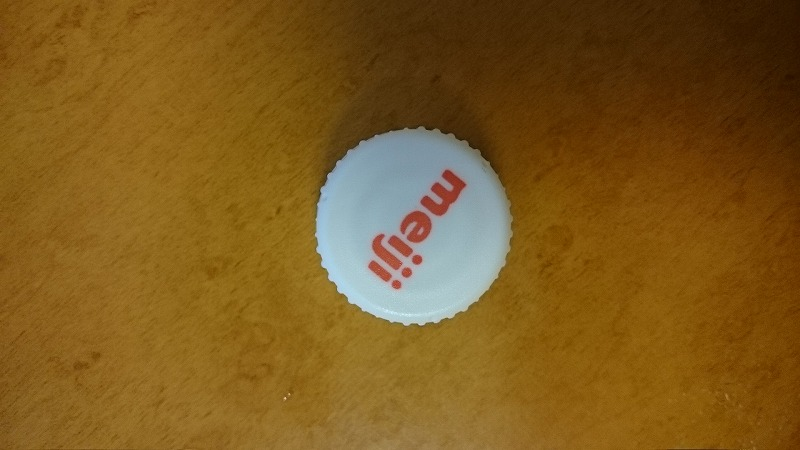B: (308, 124, 519, 335)
